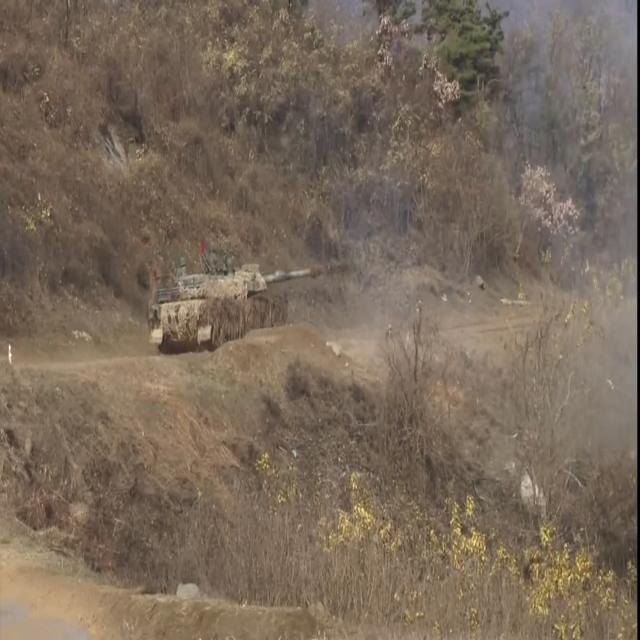korea tank: (145, 230, 359, 356)
